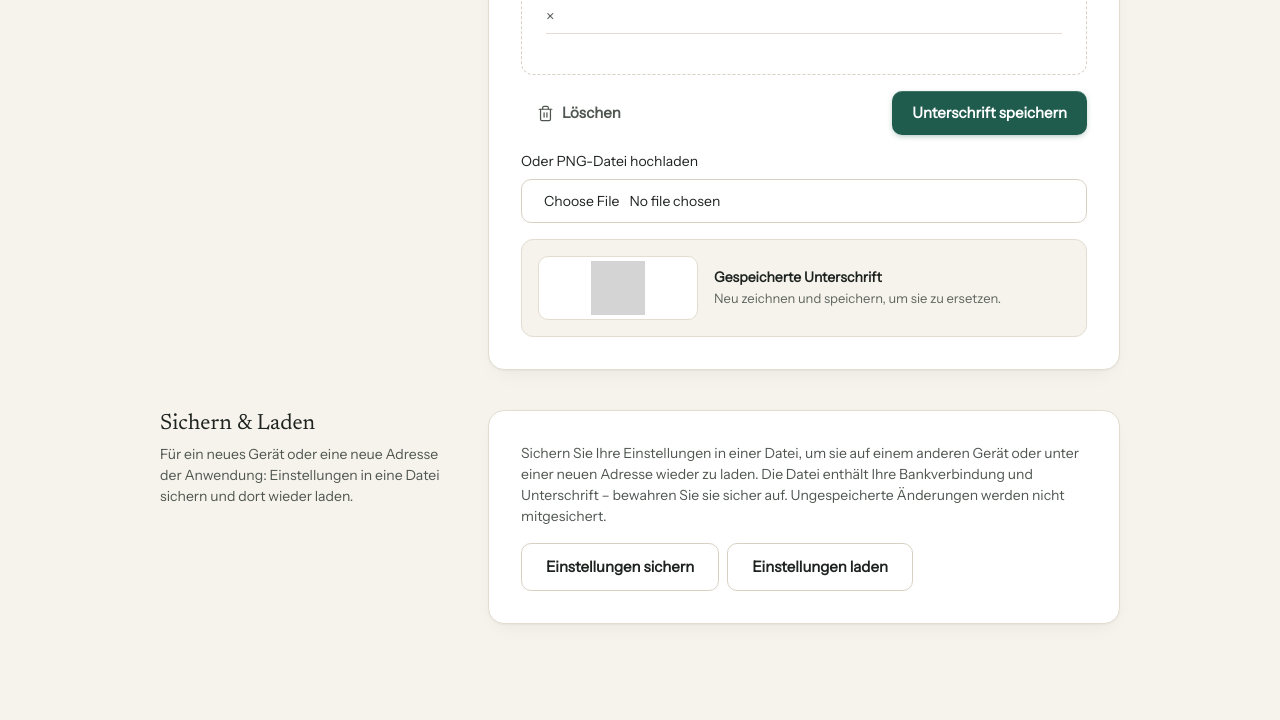
Test case: Settings export and import › leaves out and names a stored signature that a settings file would refuse
(page scrolled)
Click the button "Einstellungen sichern" at (620, 567), box [521,543,719,591]
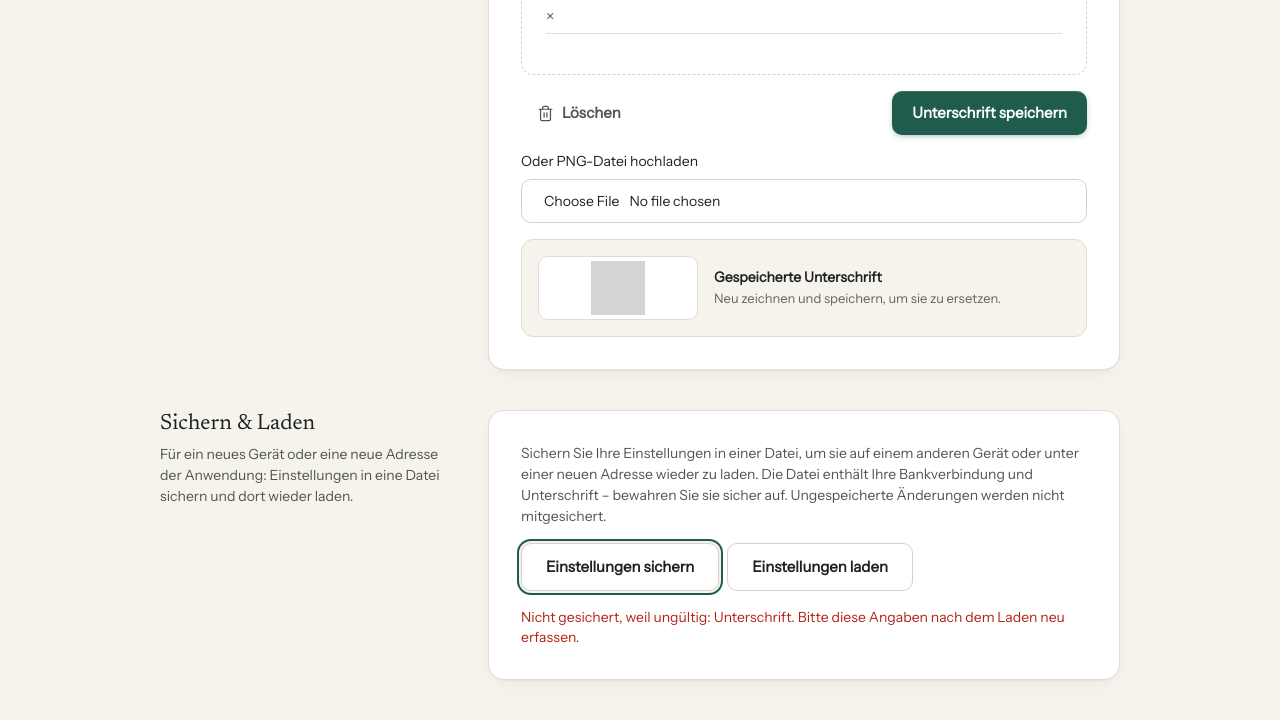
expect the message shows "Nicht gesichert, weil ungültig: Unterschrift": met, box [521,608,1065,646]
